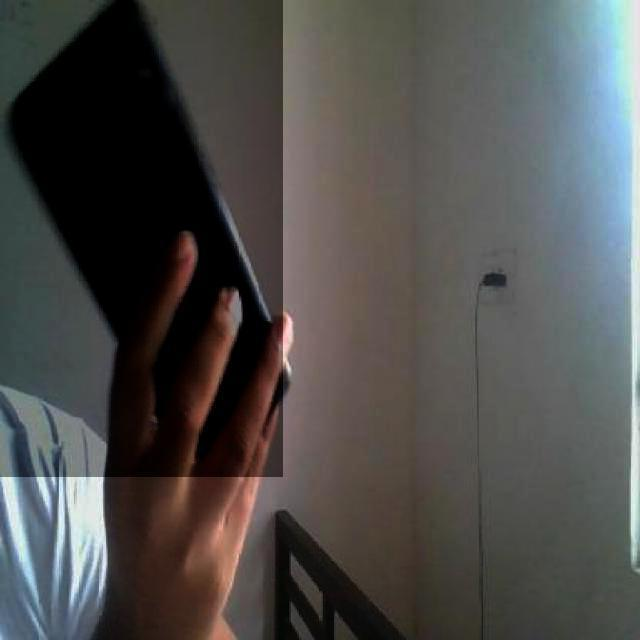mobile: (0, 0, 283, 477)
